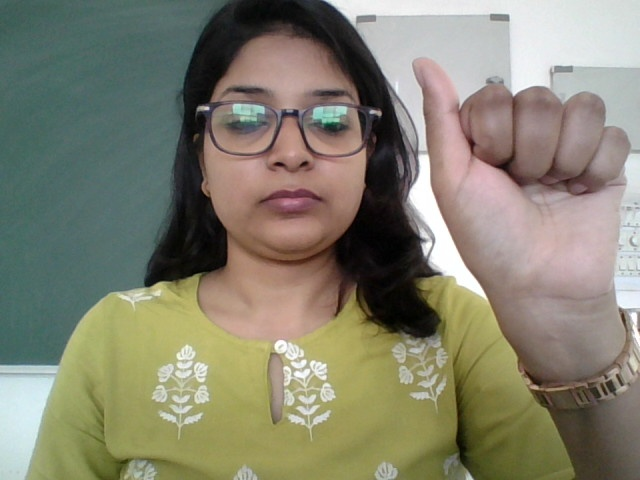A: (402, 51, 640, 354)
